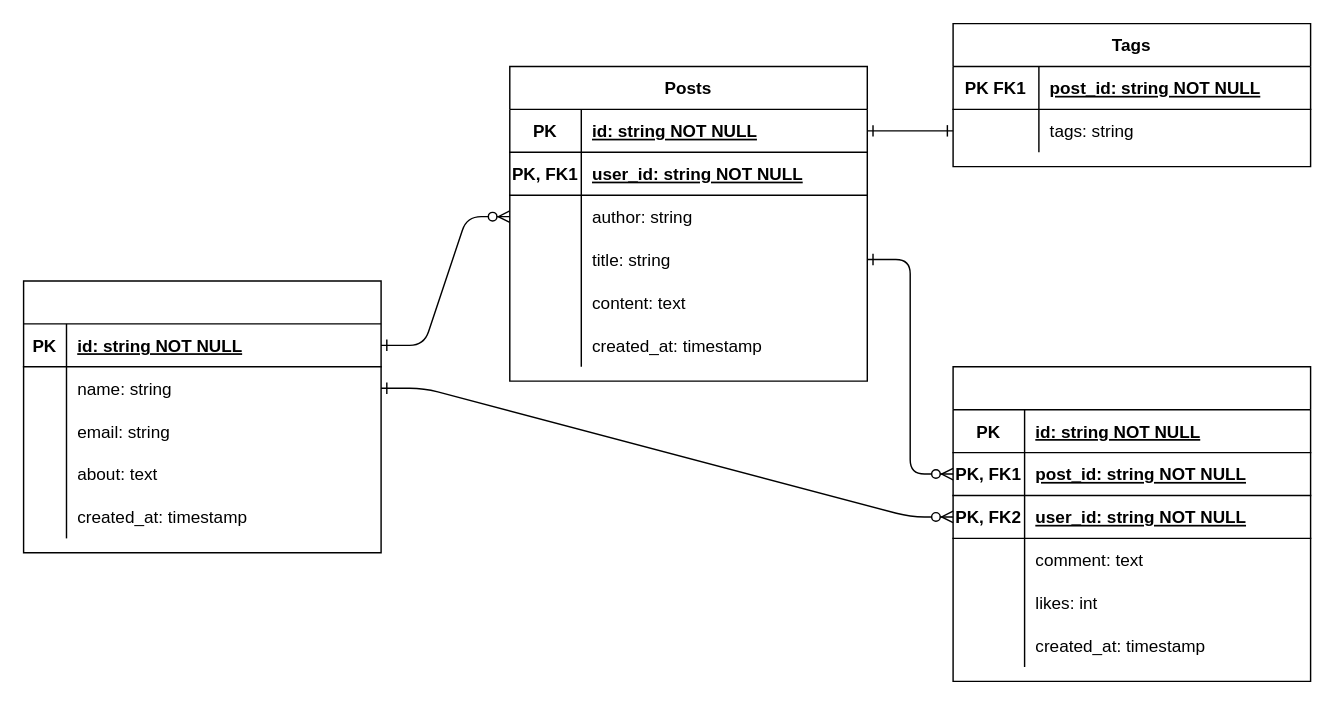
Some shapes in this 1334 by 705 pixel diagram are drawn without their labels. Each missing label, with the box of its shape:
Comments: (952, 365, 1311, 681)
Users: (22, 280, 381, 553)
